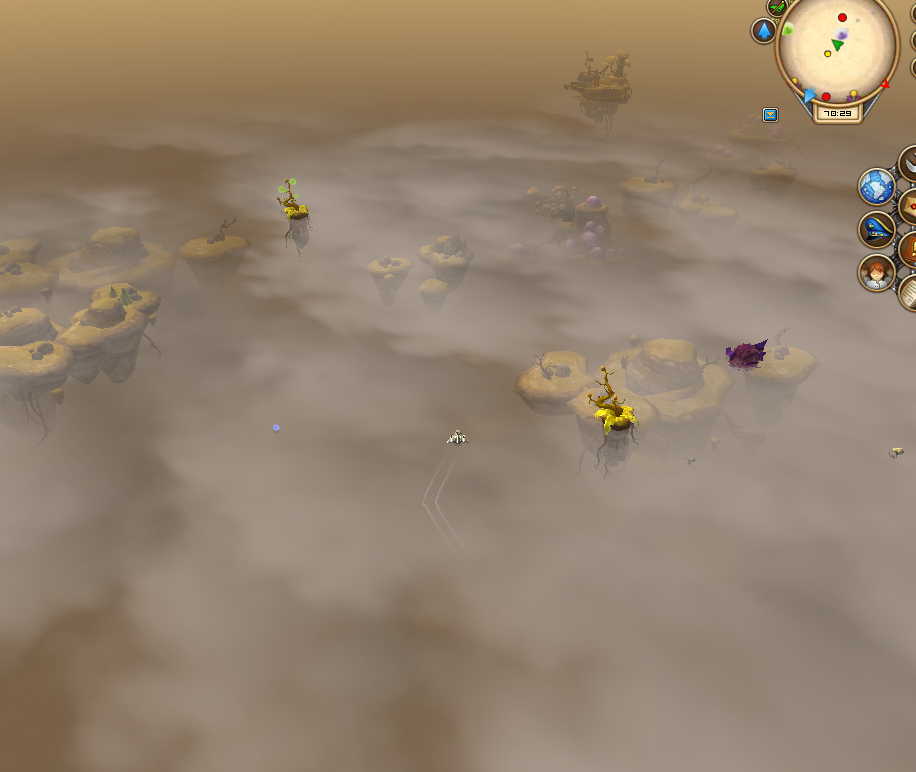dandelion-empty: (586, 363, 639, 472)
dandelion-full: (270, 172, 318, 252)
fluff: (268, 419, 285, 436)
